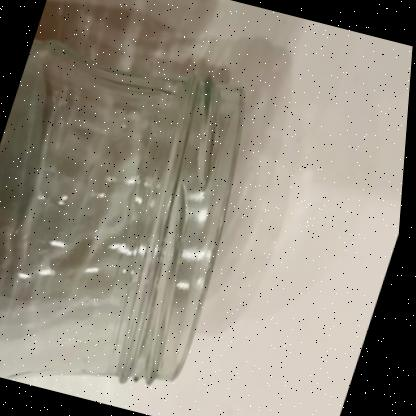Glass: (0, 40, 243, 383)
